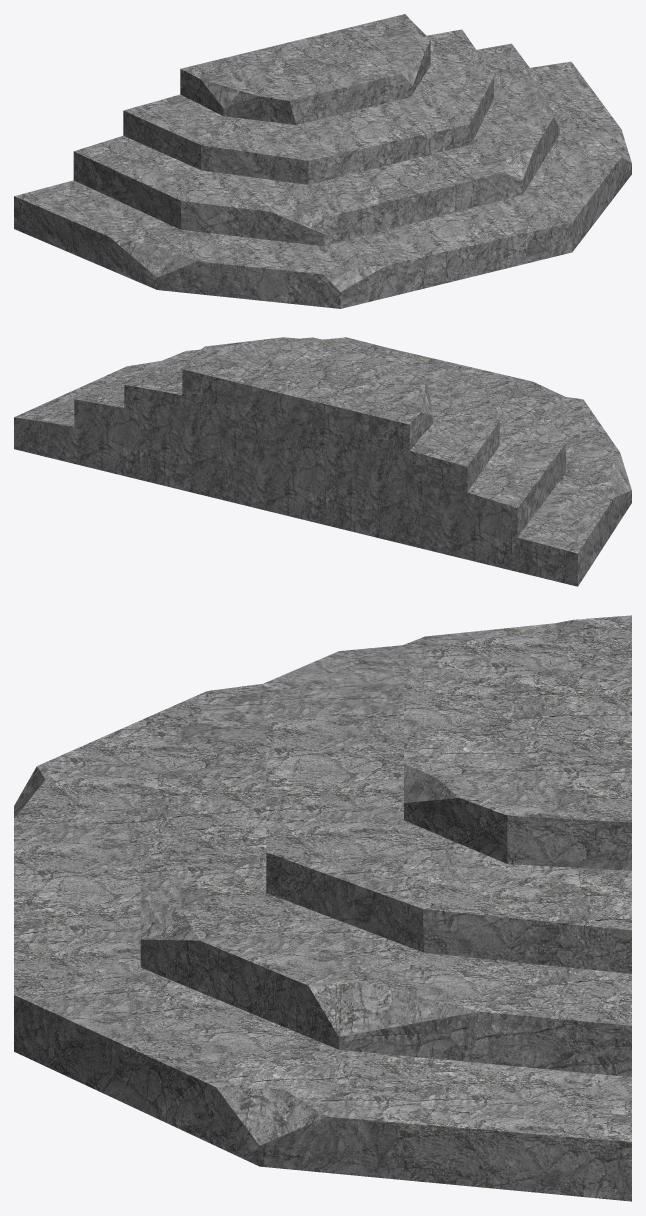
File: materials_3_stairs_7.fbx
3 views of the same model, one above another, from view 1: azimuth 30°, elevation 25°; view 2: azimuth 150°, elevation 25°; view 3: azimuth 270°, elevation 25° (orthographic). The views are drawn at different scales.
Parts seen in each view (by area): view 1: materials_3_stairs_7; view 2: materials_3_stairs_7; view 3: materials_3_stairs_7.
Part boxes in pixels (x1,y1,x2,y2): materials_3_stairs_7: (14, 14, 631, 308); materials_3_stairs_7: (14, 337, 631, 586); materials_3_stairs_7: (14, 615, 631, 1201).
Size of the model in its own units: 559 by 115 by 284.
